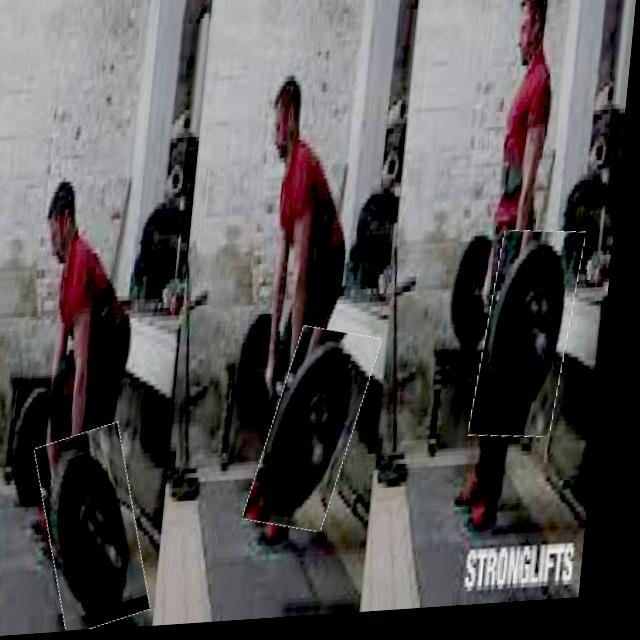barbell: (42, 427, 166, 636), (264, 331, 381, 538), (483, 237, 589, 448)
